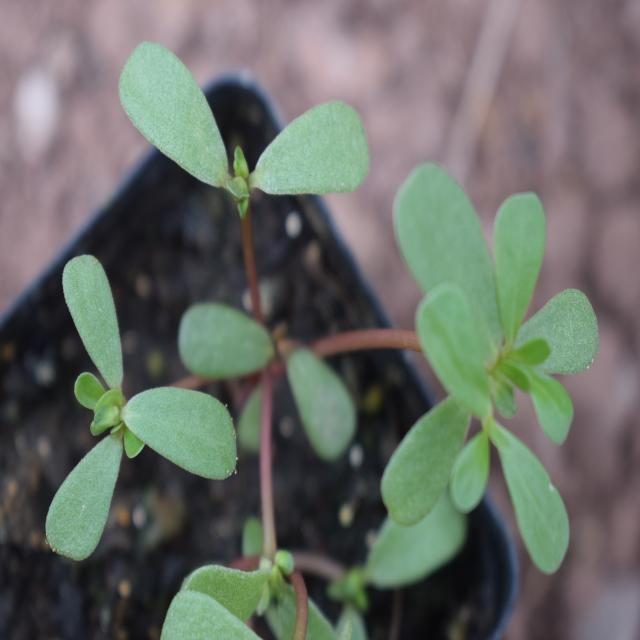purslane: (50, 46, 600, 593)
